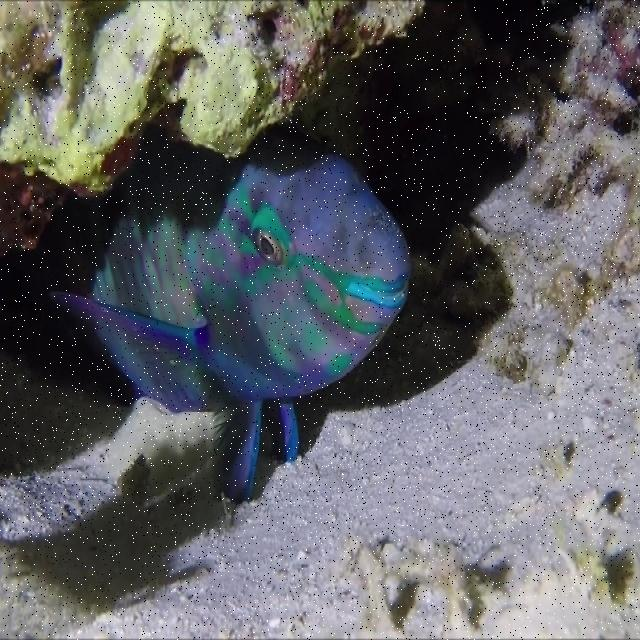fish: (49, 123, 413, 502)
reefs: (1, 1, 426, 255)
